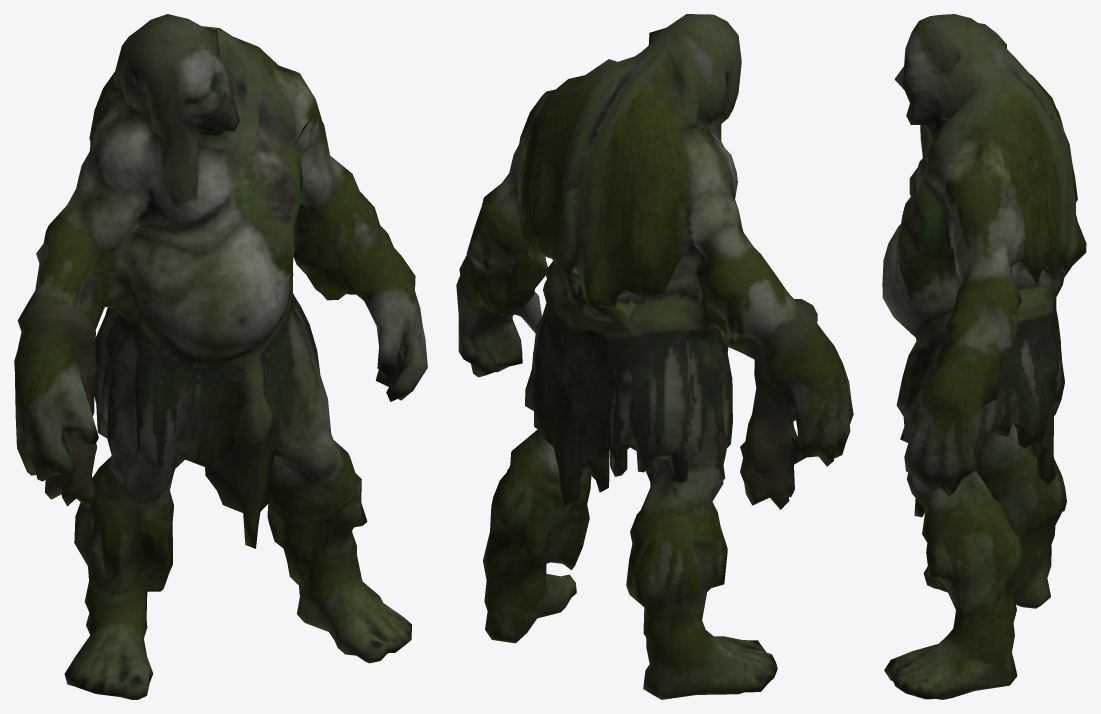
Rendered from bog_drowned_v1.glb.
3 views of the same model, side by side, from view 1: azimuth 30°, elevation 25°; view 2: azimuth 150°, elevation 25°; view 3: azimuth 270°, elevation 25° (orthographic). The views are drawn at different scales.
Visible parts, largest first — view 1: bog-drowned-m0q-4000; view 2: bog-drowned-m0q-4000; view 3: bog-drowned-m0q-4000.
Part boxes in pixels (x1,y1,x2,y2): bog-drowned-m0q-4000: (14,14,427,699); bog-drowned-m0q-4000: (456,14,853,699); bog-drowned-m0q-4000: (882,14,1086,699).
Size of the model in its own units: 0.627 by 1 by 0.3137.
1 material, 1 textured.
